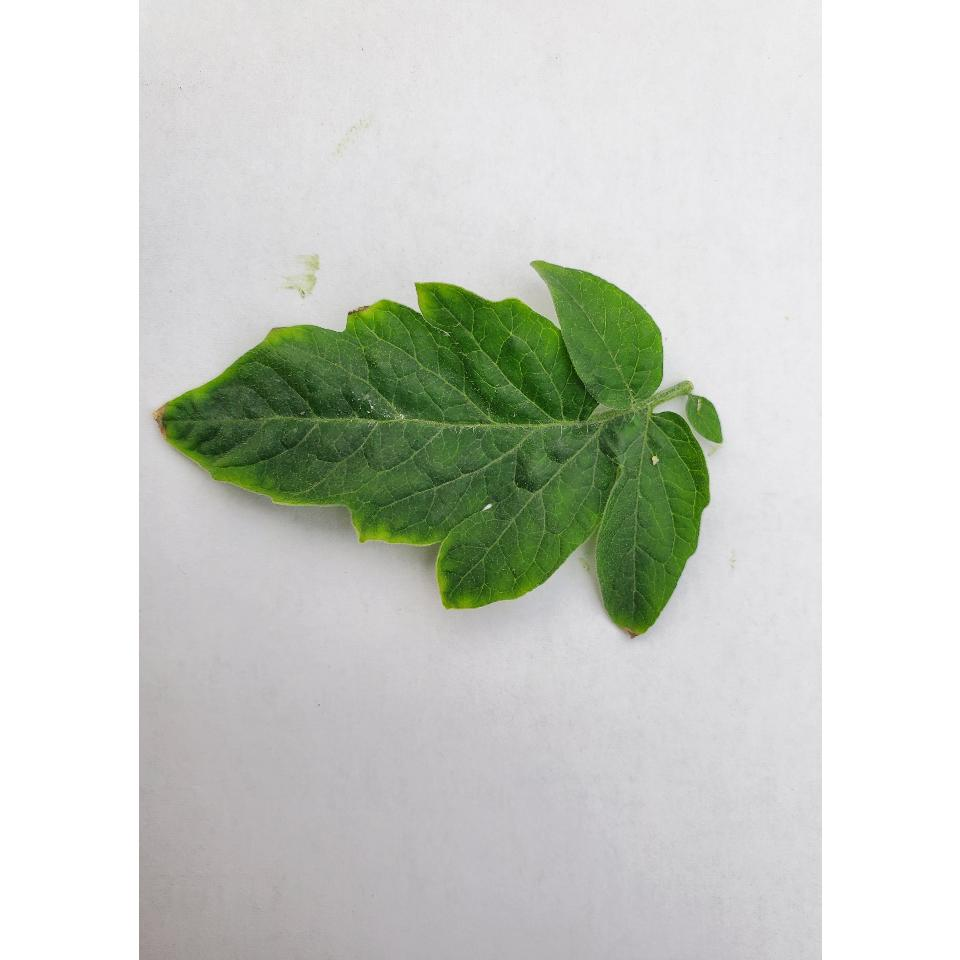tomato_leaves: (146, 255, 738, 632)
